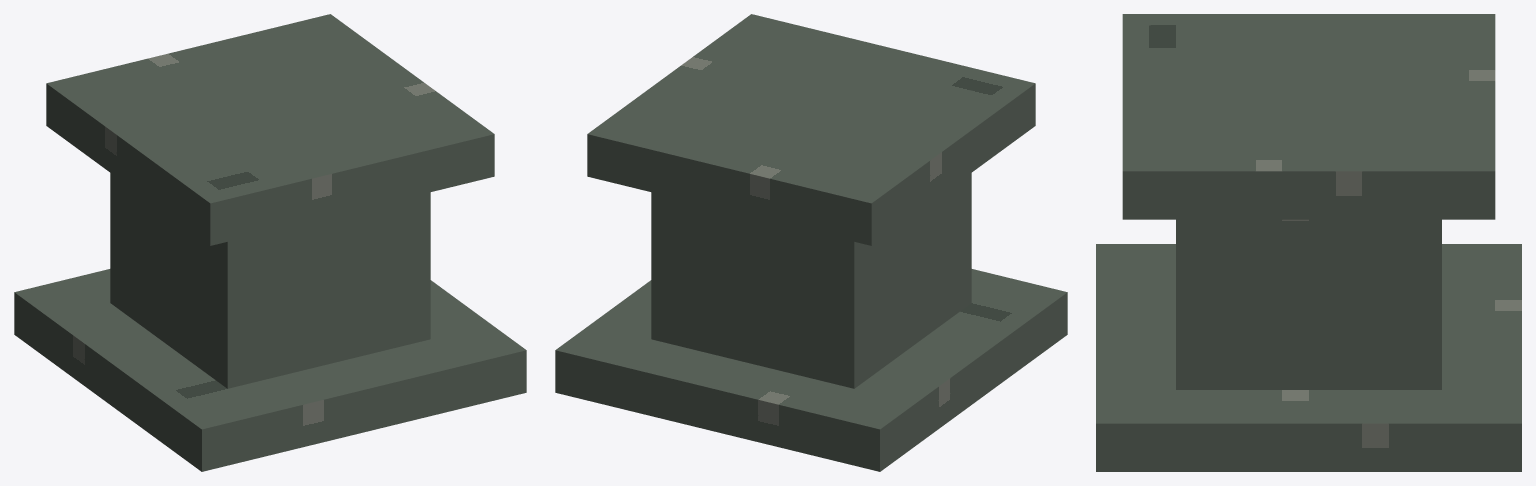
Rendered from roof_vent.gltf.
3 renders of one model, left to right at view 1: azimuth 30°, elevation 25°; view 2: azimuth 150°, elevation 25°; view 3: azimuth 270°, elevation 25°, orthographic. The views are drawn at different scales.
Parts seen in each view (by area): view 1: cap, duct, base; view 2: cap, duct, base; view 3: cap, base, duct.
Boxes of the visible parts, x1,y1,x2,y2 form: cap: (46,14,494,245); duct: (110,173,430,388); base: (14,269,526,471); cap: (587,14,1035,245); duct: (651,173,971,388); base: (555,269,1067,471); cap: (1122,14,1495,219); base: (1096,244,1521,471); duct: (1176,219,1441,389).
Bounding box in the file's own units: 1 × 0.75 × 1.
Materials: 1 (1 with a texture image).
